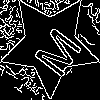M: (25, 19, 84, 80)
